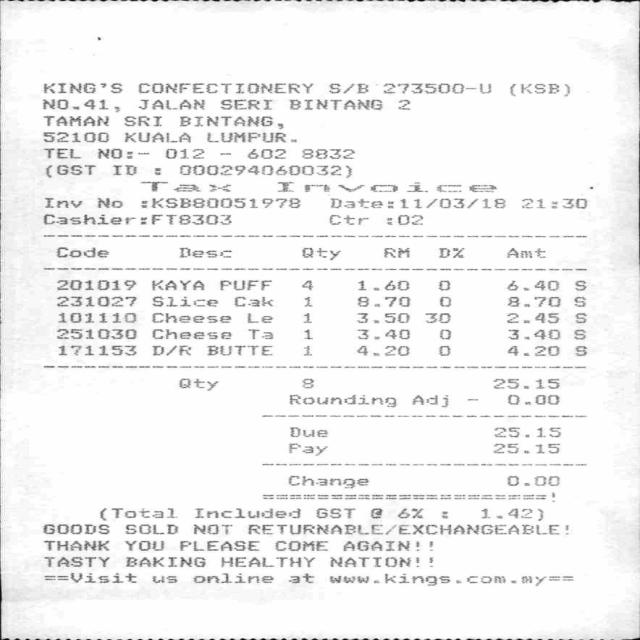text: (247, 524, 567, 534), (275, 181, 495, 192), (179, 164, 350, 177), (138, 82, 312, 93), (329, 197, 503, 208), (138, 198, 298, 208), (288, 393, 394, 407), (178, 116, 282, 129), (381, 82, 489, 94), (193, 507, 299, 518), (41, 571, 135, 583), (286, 474, 366, 488), (40, 98, 118, 112), (328, 557, 432, 567), (288, 99, 381, 110), (98, 507, 176, 520), (41, 213, 131, 224), (207, 131, 296, 142), (54, 295, 135, 307), (42, 82, 121, 94), (218, 557, 312, 567), (383, 573, 459, 585), (139, 181, 229, 191), (342, 540, 432, 550), (54, 328, 135, 339), (125, 556, 204, 567), (192, 572, 271, 583), (56, 279, 134, 290), (508, 82, 568, 96), (146, 214, 230, 224), (150, 328, 230, 338), (150, 295, 216, 307), (41, 539, 107, 551), (55, 312, 134, 322), (151, 312, 230, 322), (179, 540, 258, 550), (58, 345, 136, 355), (469, 576, 546, 586), (480, 508, 542, 520), (492, 426, 559, 437), (137, 98, 203, 109), (42, 115, 108, 126), (42, 131, 108, 142), (123, 131, 189, 142), (492, 378, 558, 389), (41, 523, 107, 534), (42, 556, 108, 567), (177, 245, 231, 258), (520, 198, 586, 208), (492, 443, 558, 453), (206, 345, 271, 355), (45, 164, 94, 177), (502, 296, 559, 307), (56, 245, 107, 257), (354, 328, 408, 339), (149, 279, 202, 290), (356, 296, 409, 307), (219, 98, 271, 109), (506, 279, 558, 290), (219, 279, 271, 290), (356, 312, 408, 323), (506, 328, 558, 339), (356, 345, 408, 356), (506, 394, 558, 405), (124, 523, 176, 534), (502, 345, 558, 355), (358, 279, 408, 290), (502, 312, 557, 322), (300, 148, 352, 158), (274, 540, 326, 550), (97, 148, 148, 158), (507, 475, 558, 485), (502, 247, 546, 258), (300, 247, 340, 259), (178, 378, 217, 390), (412, 394, 448, 407), (287, 443, 326, 455), (165, 147, 203, 159), (328, 82, 367, 93), (315, 507, 354, 518), (123, 115, 161, 126), (234, 296, 271, 307), (328, 214, 367, 224), (287, 426, 326, 436), (124, 540, 163, 550), (330, 574, 378, 582), (41, 148, 79, 158), (42, 197, 80, 207), (152, 345, 190, 355), (193, 524, 231, 534), (247, 148, 284, 158), (384, 214, 420, 224), (435, 246, 465, 257), (397, 507, 424, 518), (287, 572, 313, 583), (97, 197, 122, 208), (382, 247, 409, 257), (424, 312, 450, 322), (112, 165, 136, 175), (247, 312, 271, 322), (247, 328, 271, 338), (571, 280, 589, 292), (150, 575, 175, 583), (572, 295, 586, 308), (572, 345, 588, 356), (570, 328, 584, 339), (572, 312, 586, 322), (368, 508, 381, 518), (398, 99, 409, 110), (438, 279, 449, 290), (438, 296, 449, 307), (438, 328, 449, 339), (438, 345, 449, 356), (299, 280, 311, 290), (300, 378, 312, 388), (302, 328, 310, 339), (302, 296, 310, 306), (302, 312, 310, 322), (302, 345, 310, 355), (154, 167, 159, 174)
